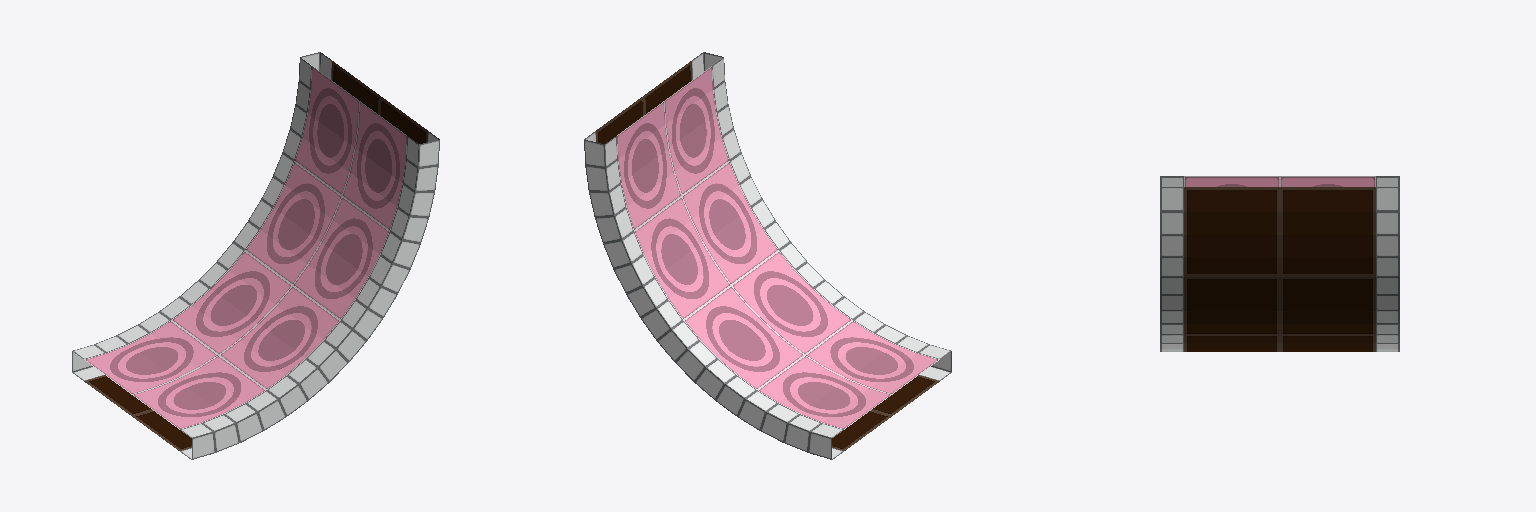
3 views of the same model, side by side, from view 1: azimuth 30°, elevation 25°; view 2: azimuth 150°, elevation 25°; view 3: azimuth 270°, elevation 25° (orthographic).
Parts seen in each view (by area): view 1: PursuitCurve; view 2: PursuitCurve; view 3: PursuitCurve.
Boxes of the visible parts, x1=… form: PursuitCurve: x1=72, y1=52, x2=439, y2=459; PursuitCurve: x1=584, y1=52, x2=951, y2=459; PursuitCurve: x1=1160, y1=176, x2=1399, y2=351.
Bounding box in the file's own units: 6 × 6 × 5.
3 materials, 3 textured.